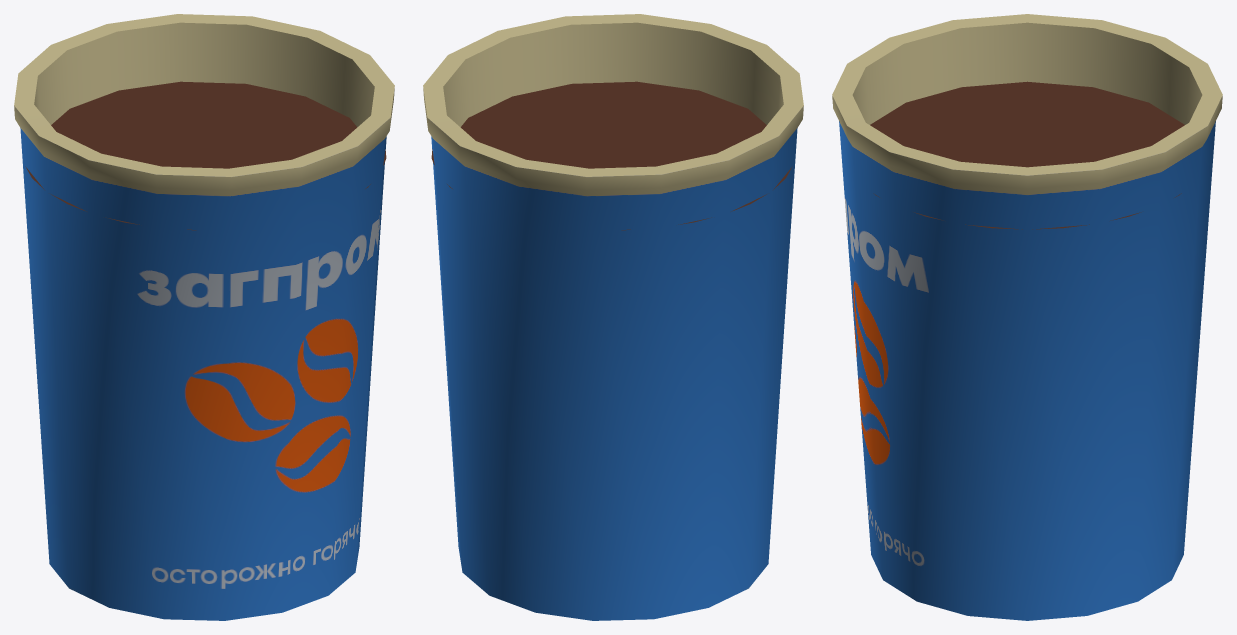
Rendered from coffee ready.fbx.
3 views of the same model, side by side, from view 1: azimuth 30°, elevation 25°; view 2: azimuth 150°, elevation 25°; view 3: azimuth 270°, elevation 25° (orthographic).
Visible parts, largest first — view 1: Cylinder, Circle; view 2: Cylinder, Circle; view 3: Cylinder, Circle.
Boxes of the visible parts, x1=… form: Cylinder: x1=14, y1=14, x2=394, y2=620; Circle: x1=25, y1=81, x2=386, y2=230; Cylinder: x1=423, y1=14, x2=803, y2=620; Circle: x1=431, y1=81, x2=792, y2=230; Cylinder: x1=832, y1=14, x2=1222, y2=620; Circle: x1=870, y1=81, x2=1184, y2=229.
Size of the model in its own units: 14.6 by 19.37 by 14.91.
2 materials, 1 textured.
